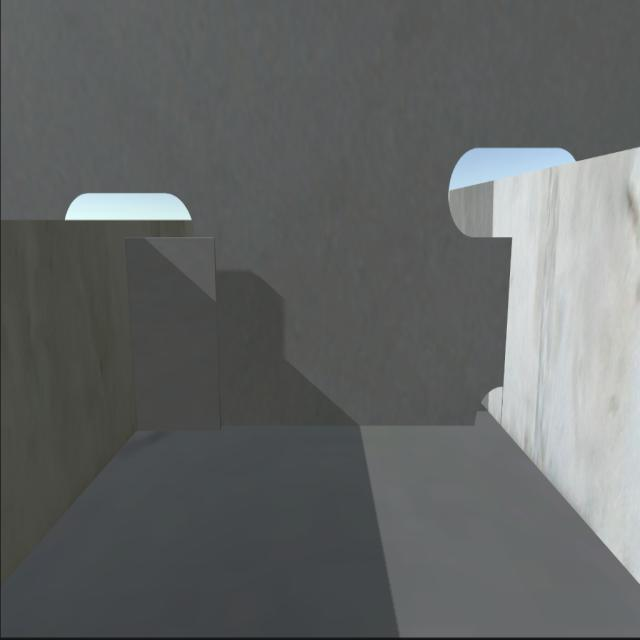fillet_hole: (467, 382, 506, 429)
fillet_yong_jeop_jang: (135, 416, 475, 434)
longi_yong_jeop_jang: (123, 241, 151, 430), (503, 241, 514, 387)
plate_CP01: (130, 239, 222, 433)
